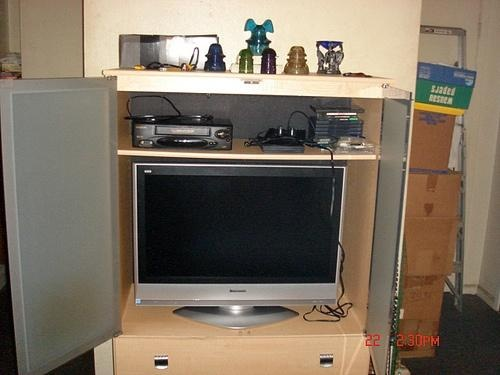tvmonitor: (132, 163, 349, 330)
